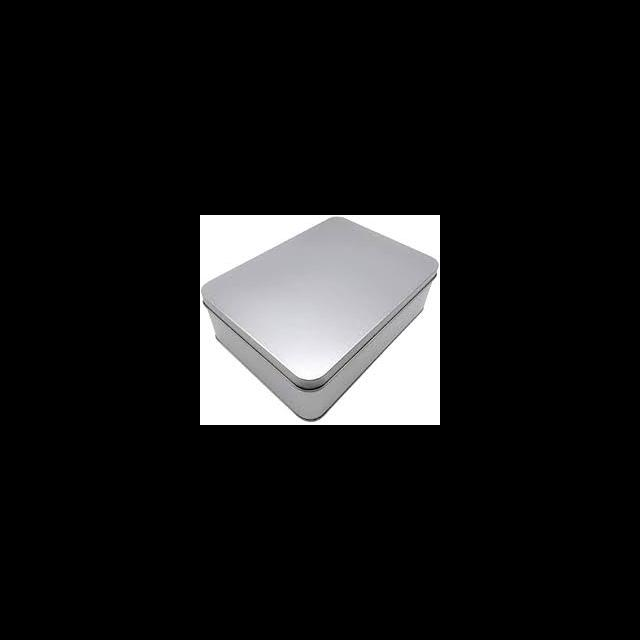metal: (200, 215, 437, 421)
